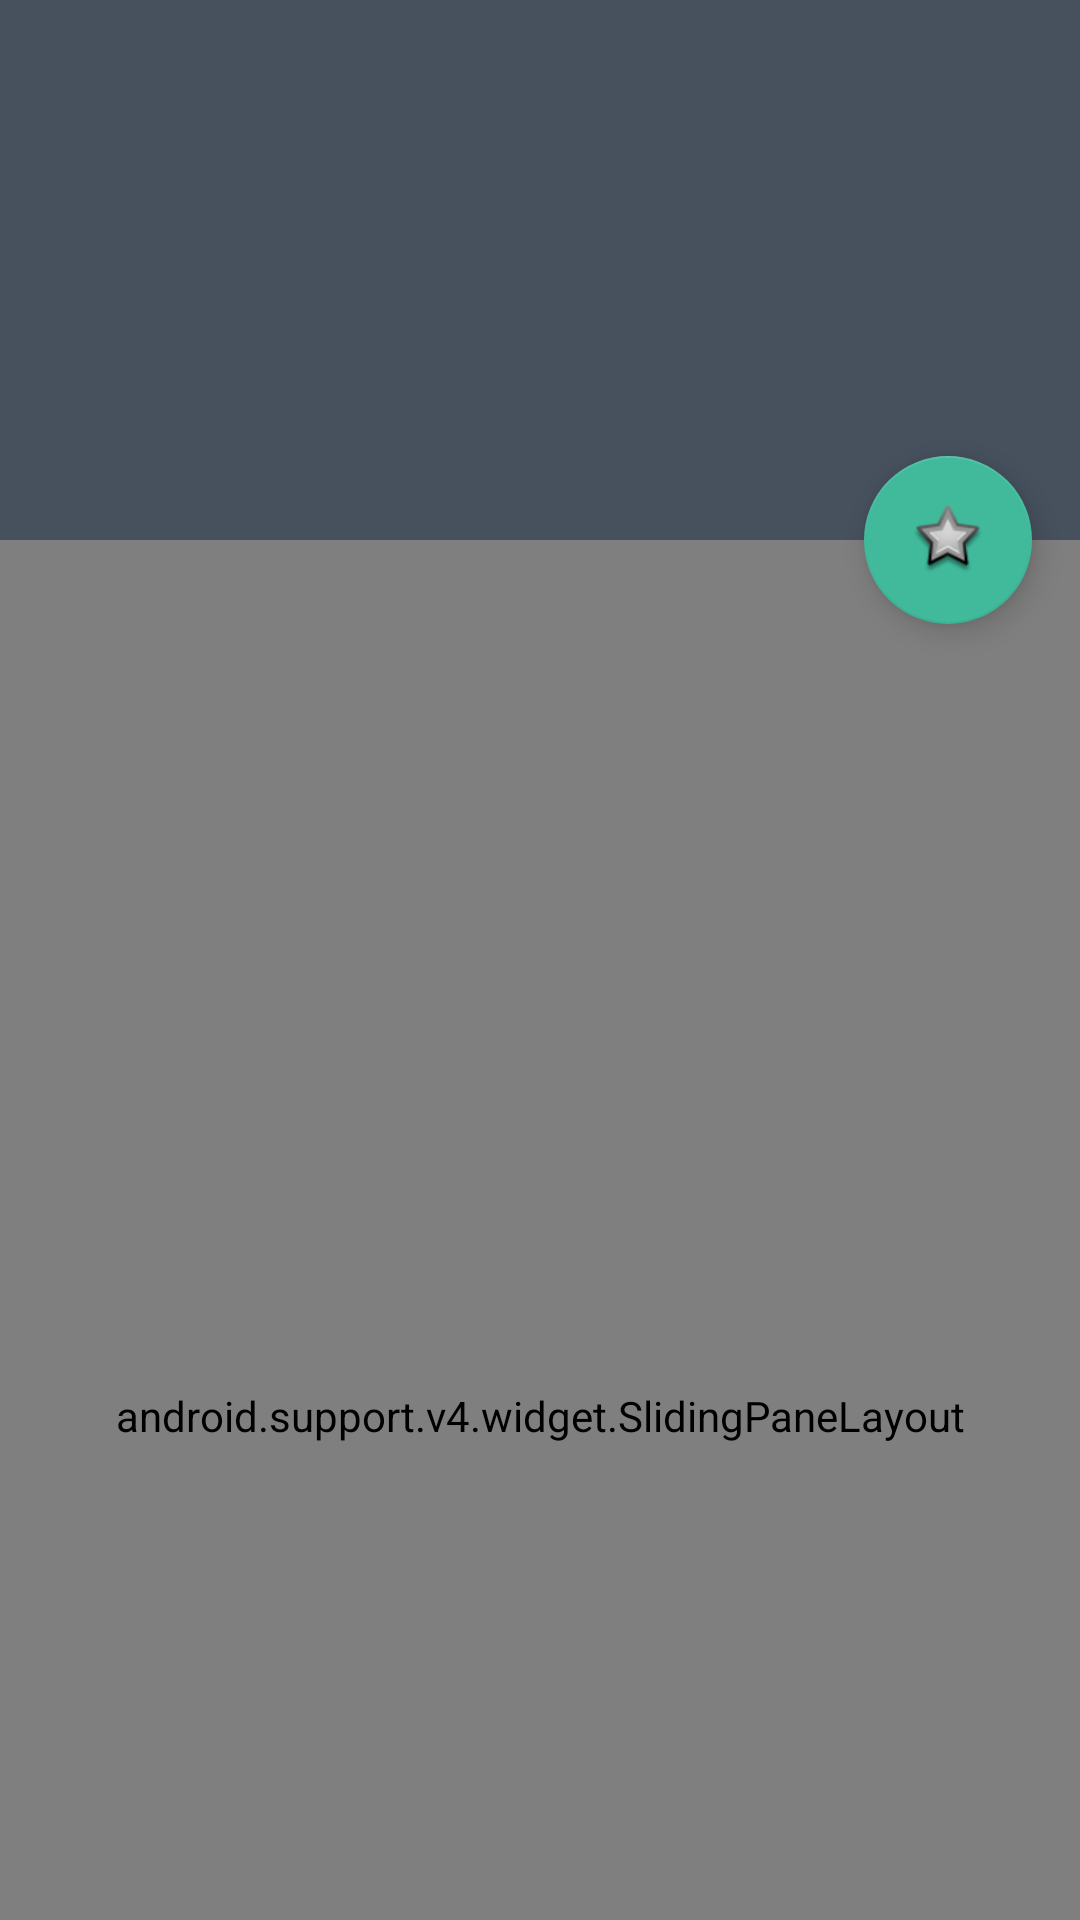

Screen size 1080px x 1920px. Icon name, then its center in pixels as [x,y]:
star off: [948,540]
